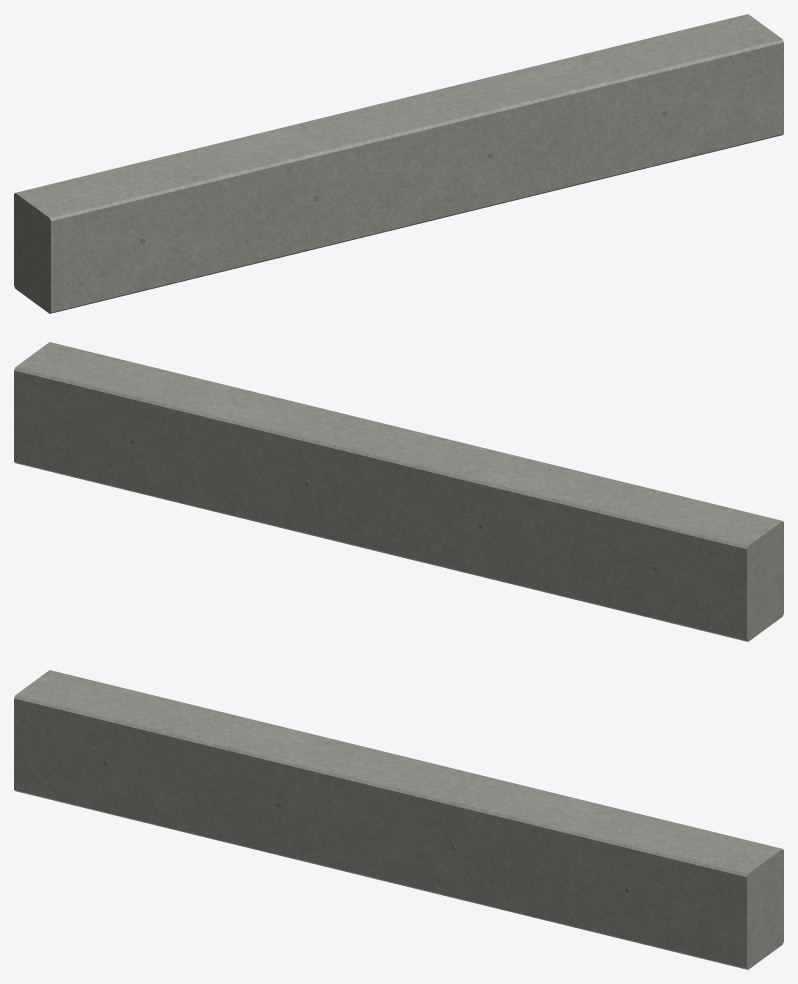
The model's file is PZ_Beam_0350x0500_4m.glb.
3 views of the same model, one above another, from view 1: azimuth 30°, elevation 25°; view 2: azimuth 150°, elevation 25°; view 3: azimuth 330°, elevation 25° (orthographic).
Visible parts, largest first — view 1: RENDER_PZ_Beam_0350x0500_4m__RENDER_Beam_Precast_Core__000; view 2: RENDER_PZ_Beam_0350x0500_4m__RENDER_Beam_Precast_Core__000; view 3: RENDER_PZ_Beam_0350x0500_4m__RENDER_Beam_Precast_Core__000.
Boxes of the visible parts, x1,y1,x2,y2 form: RENDER_PZ_Beam_0350x0500_4m__RENDER_Beam_Precast_Core__000: [14, 14, 783, 313]; RENDER_PZ_Beam_0350x0500_4m__RENDER_Beam_Precast_Core__000: [14, 342, 783, 641]; RENDER_PZ_Beam_0350x0500_4m__RENDER_Beam_Precast_Core__000: [14, 670, 783, 969].
Size of the model in its own units: 4 by 0.5 by 0.355.
Materials: 2 (2 with a texture image).
